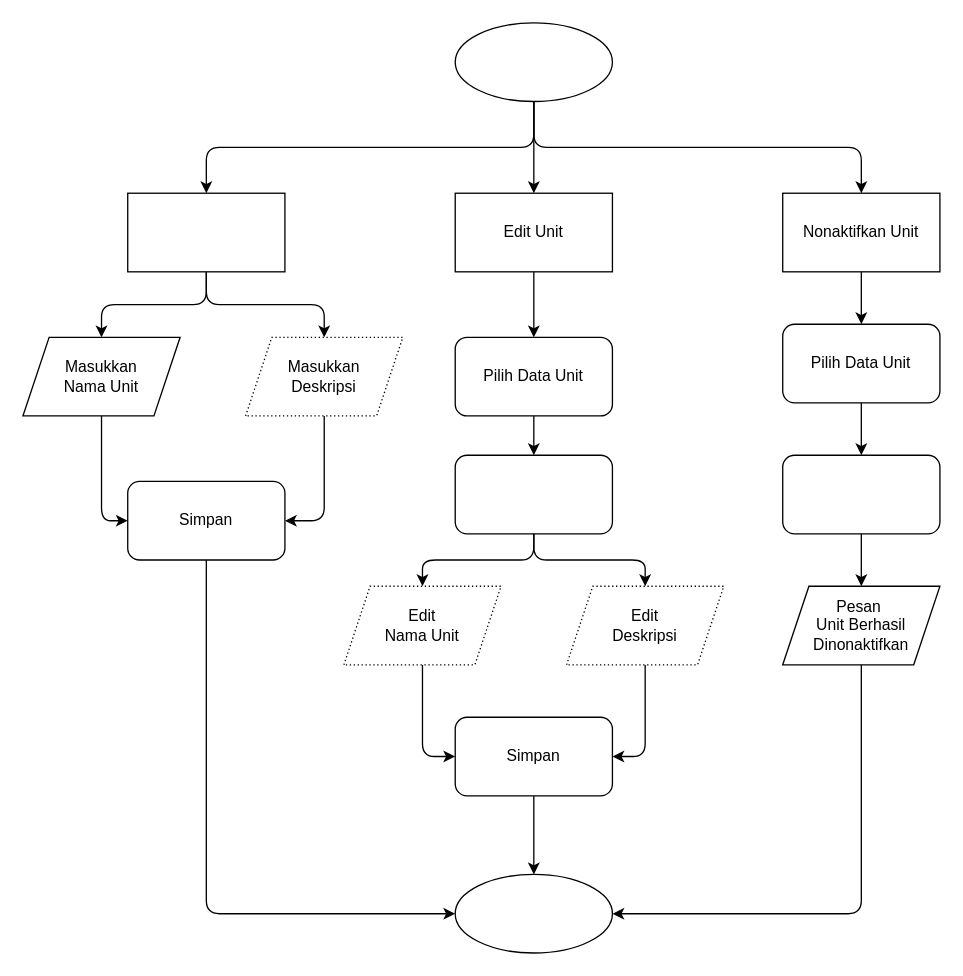
The diagram is 963 pixels wide and 976 high, and some of its shapes have lost their labels. The box of each missing label's shape, as (x1, y1, x2, y2) in pixels:
END: (454, 873, 612, 953)
Klik Edit Data: (454, 454, 612, 534)
Klik Nonaktifkan: (781, 454, 940, 534)
START: (454, 22, 612, 102)
Tambah Unit: (126, 192, 285, 272)
